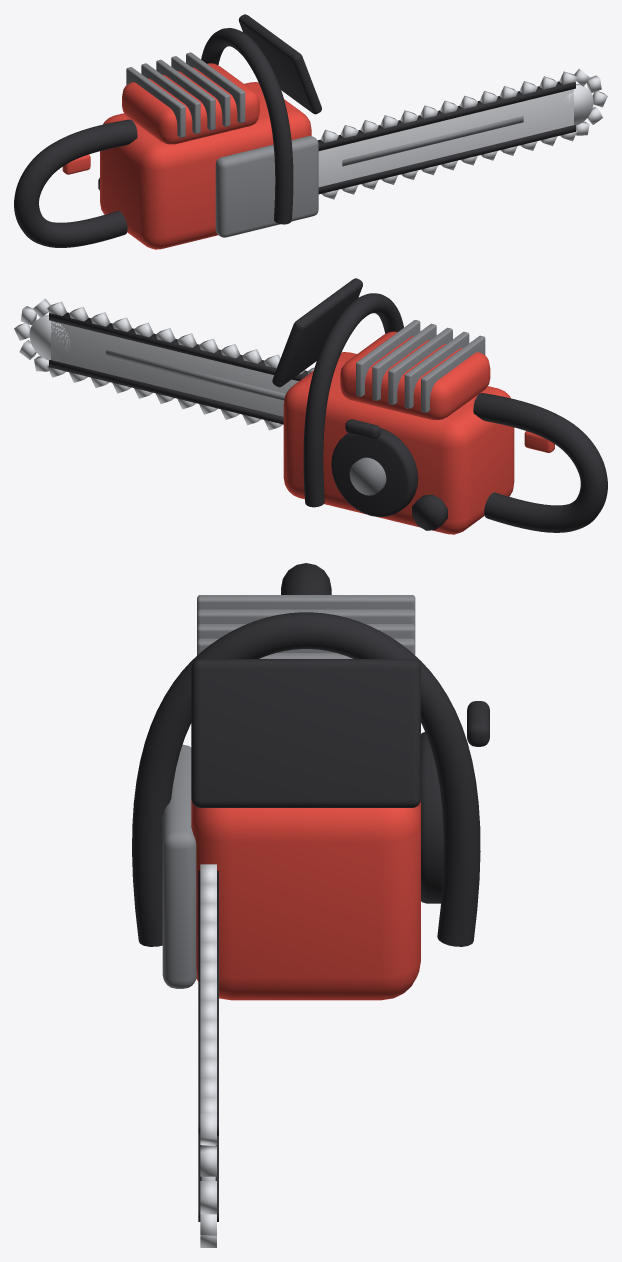
File: chainsaw.glb
The picture shows the model from 3 angles, top to bottom: view 1: azimuth 30°, elevation 25°; view 2: azimuth 150°, elevation 25°; view 3: azimuth 270°, elevation 25°; orthographic projection. The views are drawn at different scales.
Parts seen in each view (by area): view 1: body, bar, clutch_cover, rear_handle, front_handle, engine_top, hand_guard, chain_top, chain_bottom, bar_slot, fin0, fin4 (+5 smaller); view 2: body, bar, rear_handle, front_handle, engine_top, starter, hand_guard, chain_top, chain_bottom, bar_slot, fin0, fin1 (+8 smaller); view 3: body, hand_guard, front_handle, clutch_cover, fin0, starter, fin1, rear_handle, chain_top, fin2, pull_grip.
Boxes of the visible parts, x1,y1,x2,y2 form: body: (100, 82, 311, 249); bar: (318, 89, 573, 187); clutch_cover: (215, 136, 318, 237); rear_handle: (14, 119, 137, 247); front_handle: (201, 28, 293, 224); engine_top: (122, 63, 259, 144); hand_guard: (239, 14, 321, 114); chain_top: (317, 81, 575, 150); chain_bottom: (318, 125, 575, 194); bar_slot: (342, 116, 523, 166); fin0: (126, 67, 185, 137); fin4: (186, 52, 245, 123); body: (283, 352, 514, 534); bar: (51, 321, 298, 416); rear_handle: (473, 393, 607, 532); front_handle: (303, 293, 403, 507); engine_top: (340, 331, 490, 419); starter: (331, 428, 418, 516); hand_guard: (272, 278, 362, 387); chain_top: (49, 312, 308, 380); chain_bottom: (49, 360, 283, 424); bar_slot: (106, 350, 285, 400); fin0: (421, 335, 485, 412); fin1: (404, 331, 469, 408); body: (191, 799, 420, 1000); hand_guard: (191, 659, 420, 807); front_handle: (132, 612, 480, 946); clutch_cover: (162, 744, 196, 988); fin0: (197, 595, 415, 612); starter: (421, 732, 443, 903); fin1: (197, 609, 415, 626); rear_handle: (281, 563, 331, 594); chain_top: (198, 870, 218, 1135); fin2: (197, 624, 415, 641); pull_grip: (467, 701, 489, 746).
Bounding box in the file's own units: 1.14 × 0.3377 × 0.3117.
